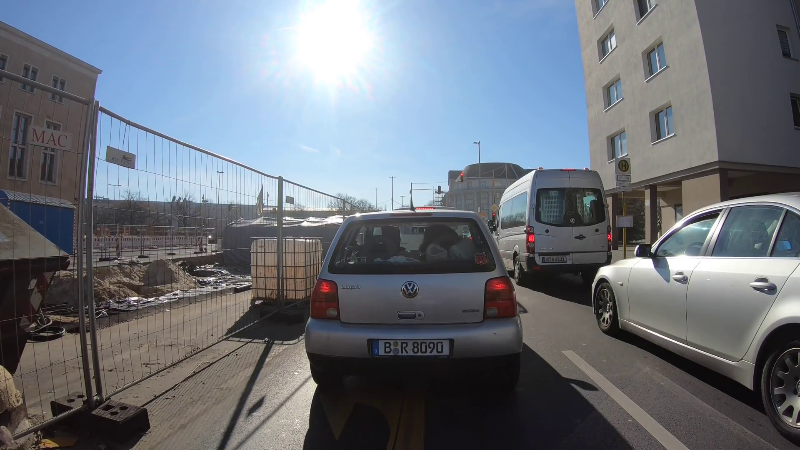Plate: (368, 337, 453, 360), (540, 254, 567, 264)
